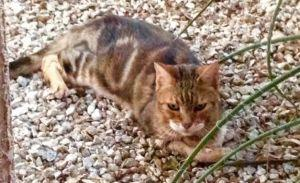bengal: (153, 58, 225, 143)
